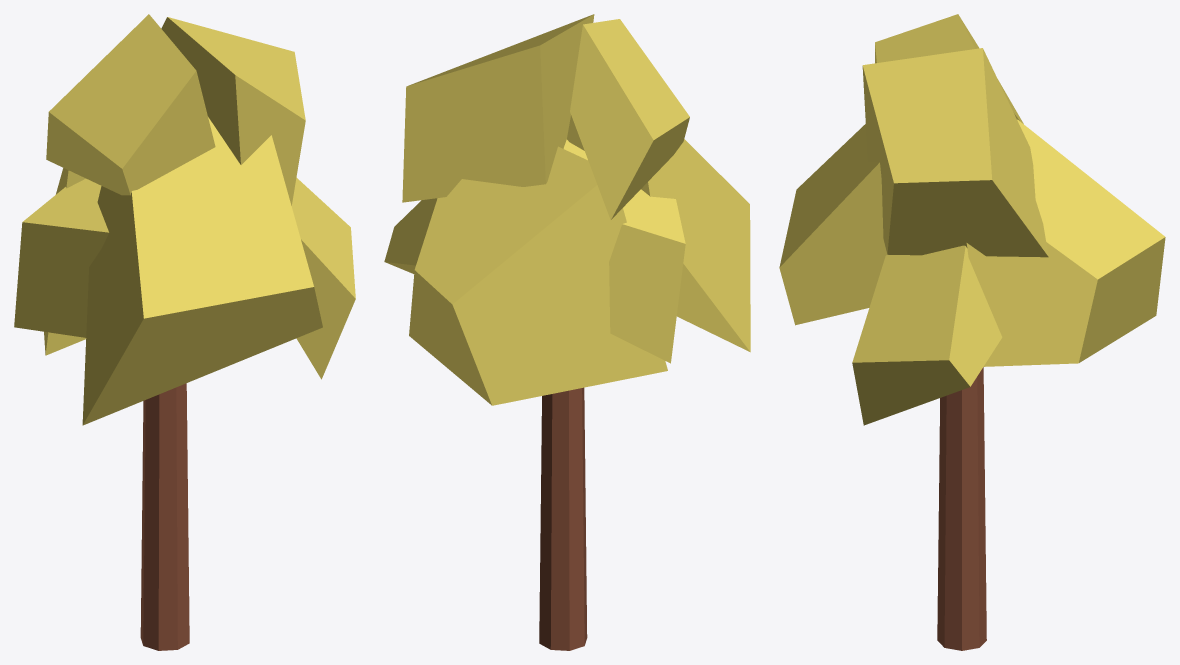
Rendered from Tree_41_autumn.fbx.
The picture shows the model from 3 angles, left to right: view 1: azimuth 30°, elevation 25°; view 2: azimuth 150°, elevation 25°; view 3: azimuth 270°, elevation 25°; orthographic projection. The views are drawn at different scales.
Visible parts, largest first — view 1: Tree_41_autumn; view 2: Tree_41_autumn; view 3: Tree_41_autumn.
Boxes of the visible parts, x1,y1,x2,y2 form: Tree_41_autumn: (14,14,355,650); Tree_41_autumn: (384,14,750,650); Tree_41_autumn: (779,14,1165,650).
Bounding box in the file's own units: 120 × 229 × 130.
